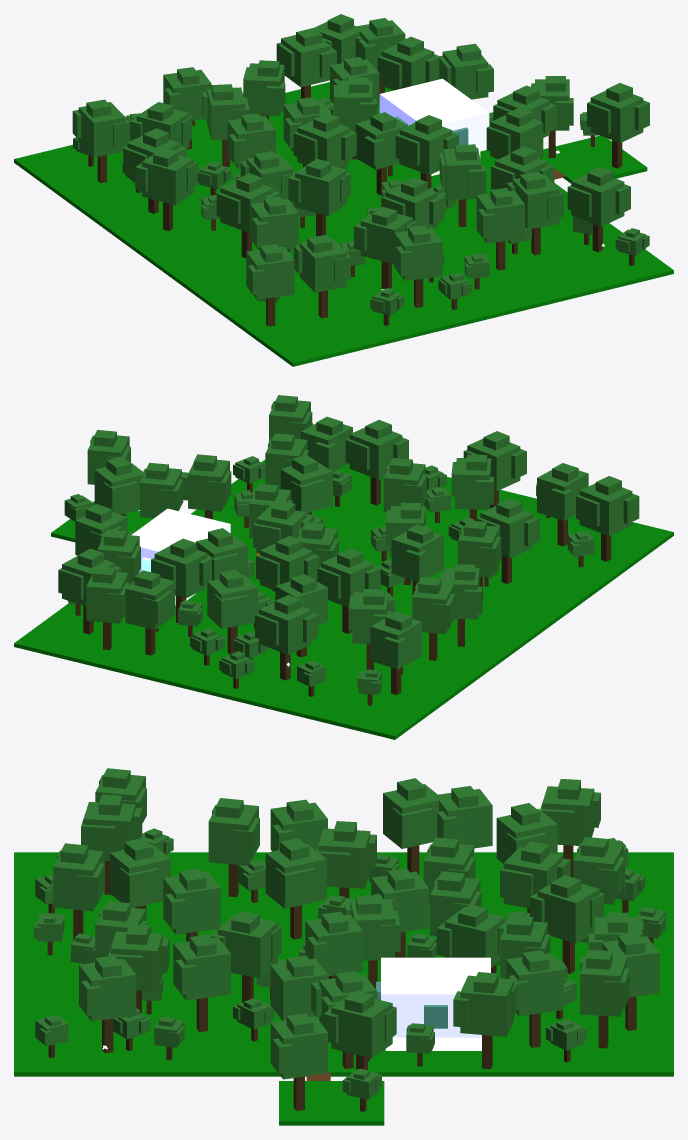
The model's file is MushroomMash2.glb.
3 views of the same model, one above another, from view 1: azimuth 30°, elevation 25°; view 2: azimuth 150°, elevation 25°; view 3: azimuth 270°, elevation 25° (orthographic). The views are drawn at different scales.
Parts seen in each view (by area): view 1: ground.004, Cube.012, ground.001, treetop.252, treetop.263, treetop.275, treetop.276, treetop.240, treetop.248, treetop.227, treetop.204, treetop.228 (+36 smaller); view 2: ground.004, Cube.012, treetop.276, treetop.280, treetop.227, treetop.236, treetop.051, treetop.228, treetop.240, treetop.043, treetop.063, treetop.059 (+47 smaller); view 3: ground.004, Cube.012, ground.001, treetop.196, treetop.031, treetop.063, treetop.039, treetop.212, treetop.200, treetop.192, treetop.204, treetop.047 (+53 smaller).
Part boxes in pixels (bbox=[...]): ground.004: bbox=[14, 82, 673, 366]; Cube.012: bbox=[379, 78, 489, 151]; ground.001: bbox=[540, 135, 647, 183]; treetop.252: bbox=[295, 161, 346, 216]; treetop.263: bbox=[142, 153, 193, 205]; treetop.275: bbox=[299, 237, 346, 292]; treetop.276: bbox=[78, 102, 125, 157]; treetop.240: bbox=[476, 190, 524, 243]; treetop.248: bbox=[394, 228, 442, 280]; treetop.227: bbox=[246, 246, 294, 299]; treetop.204: bbox=[571, 174, 624, 226]; treetop.228: bbox=[250, 199, 298, 249]; ground.004: bbox=[14, 459, 673, 739]; Cube.012: bbox=[131, 508, 230, 581]; treetop.276: bbox=[370, 618, 421, 669]; treetop.280: bbox=[391, 531, 443, 582]; treetop.227: bbox=[579, 483, 632, 535]; treetop.236: bbox=[259, 602, 311, 654]; treetop.051: bbox=[125, 577, 175, 629]; treetop.228: bbox=[480, 506, 533, 558]; treetop.240: bbox=[349, 427, 402, 479]; treetop.043: bbox=[154, 546, 207, 598]; treetop.063: bbox=[207, 574, 257, 628]; treetop.059: bbox=[86, 572, 128, 623]; ground.004: bbox=[14, 852, 673, 1076]; Cube.012: bbox=[381, 957, 490, 1037]; ground.001: bbox=[279, 1081, 384, 1125]; treetop.196: bbox=[331, 993, 392, 1058]; treetop.031: bbox=[460, 975, 514, 1036]; treetop.063: bbox=[537, 883, 599, 943]; treetop.039: bbox=[217, 914, 277, 978]; treetop.212: bbox=[163, 871, 220, 934]; treetop.200: bbox=[173, 937, 230, 1000]; treetop.192: bbox=[270, 1016, 327, 1079]; treetop.204: bbox=[79, 958, 136, 1021]; treetop.047: bbox=[506, 953, 563, 1016].
Size of what is drawn, in the model's own units: 269 by 44.01 by 276.
